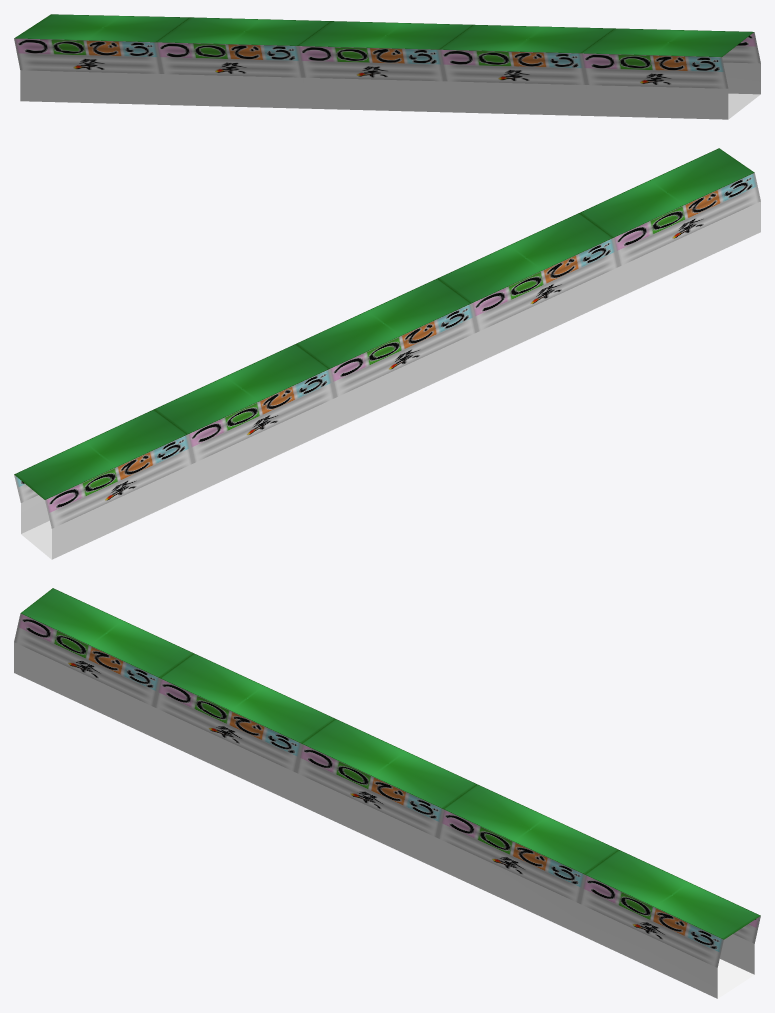
Rendered from CourseWinter_Wall_R_3.fbx.
The picture shows the model from 3 angles, top to bottom: view 1: azimuth 90°, elevation 25°; view 2: azimuth 150°, elevation 25°; view 3: azimuth 270°, elevation 25°; orthographic projection.
Parts seen in each view (by area): view 1: polySurface424; view 2: polySurface424; view 3: polySurface424.
Part boxes in pixels (x1=…): polySurface424: x1=14, y1=14, x2=760, y2=119; polySurface424: x1=14, y1=148, x2=760, y2=559; polySurface424: x1=14, y1=588, x2=760, y2=998.
Bounding box in the file's own units: 13.8 × 6.98 × 21.92.
Materials: 1 (1 with a texture image).
